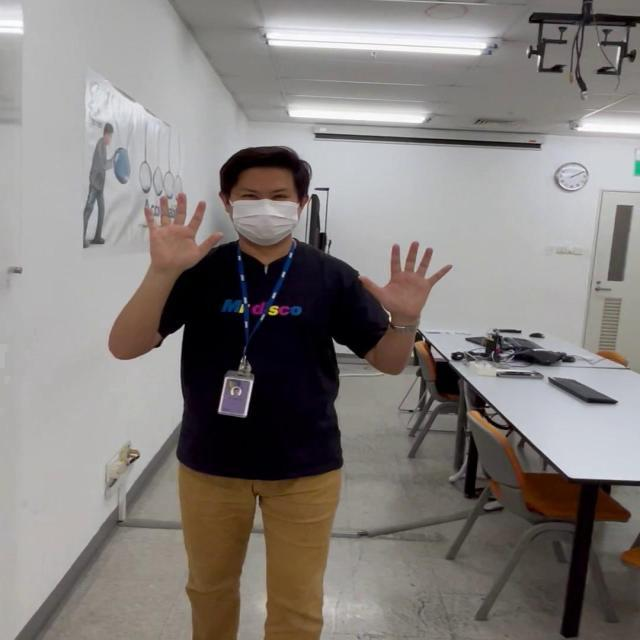bare_hand: (355, 237, 453, 316), (140, 188, 220, 268)
